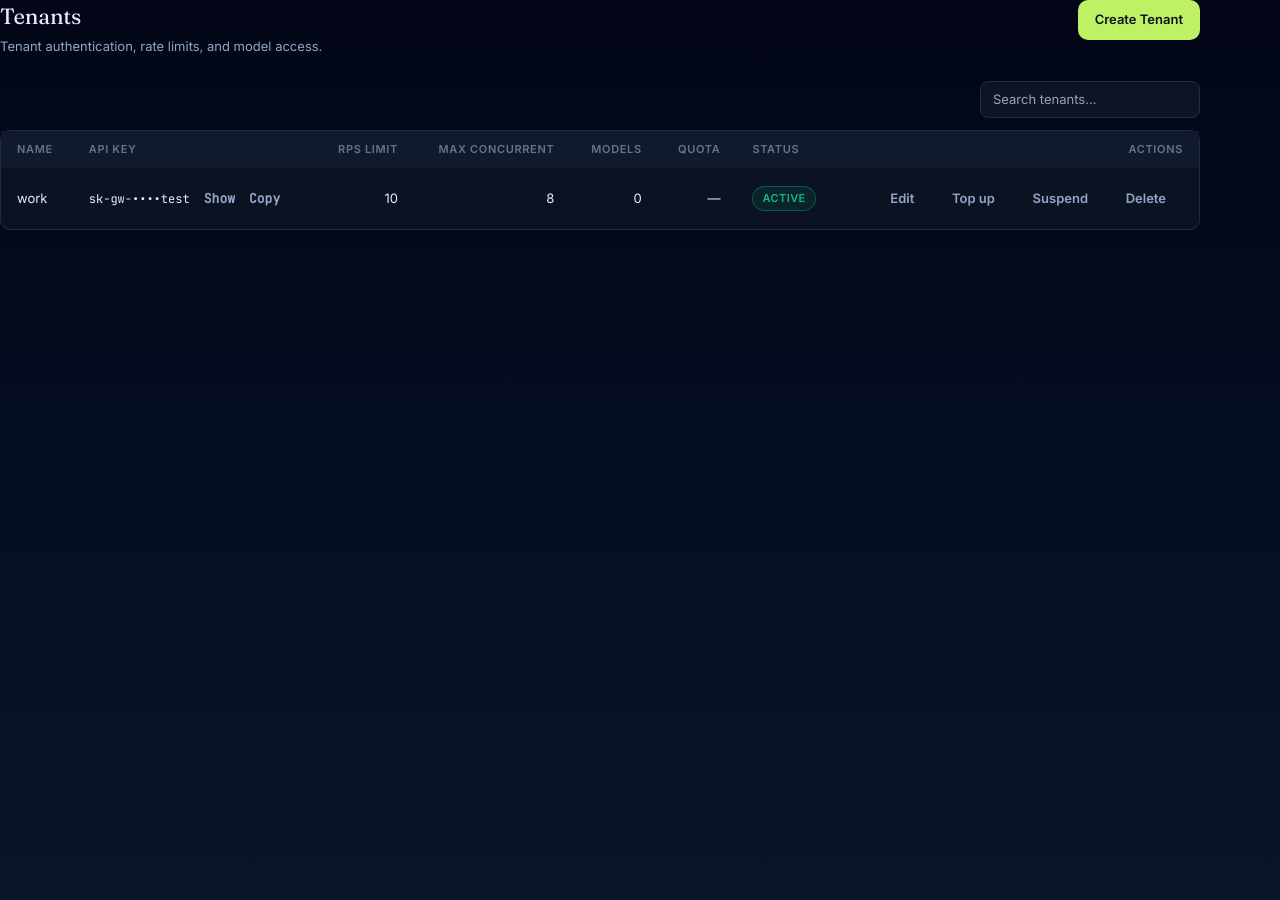
Scenario: TenantsPage allowed-models picker › editing a tenant with an empty list shows the wildcard tag
The image size is (1280, 900).
Step 1. Click the button "Edit" → (902, 198), box [873, 178, 931, 218]
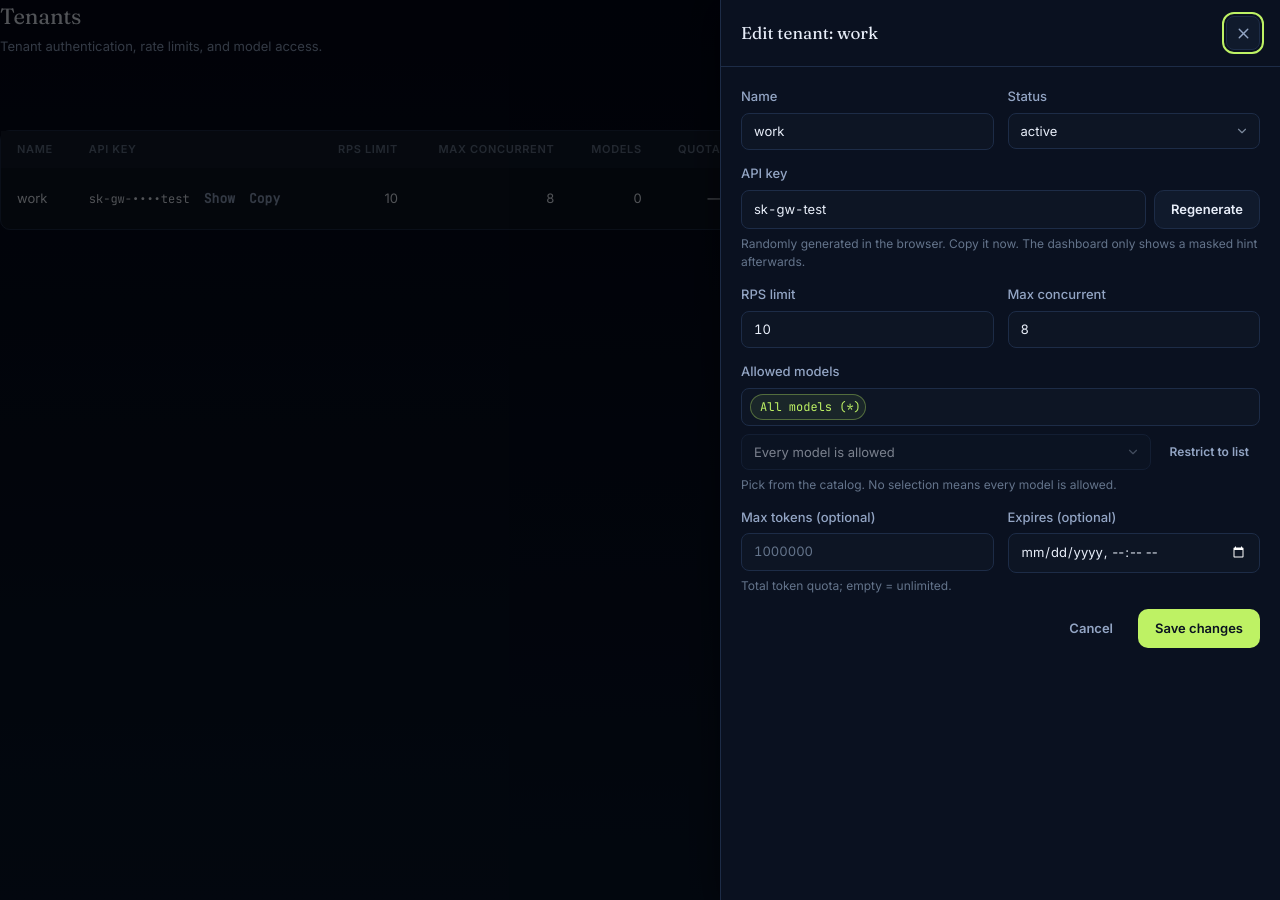
expect the dropdown with id "t-models" is disabled: met, box [741, 434, 1151, 470]
